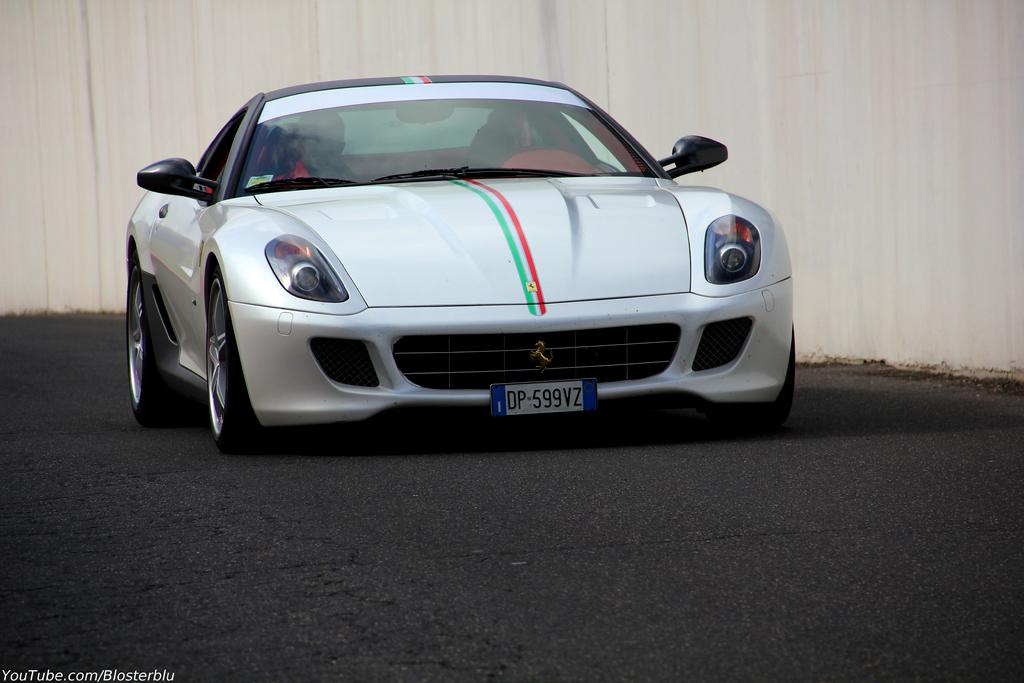Car: (113, 65, 792, 445)
